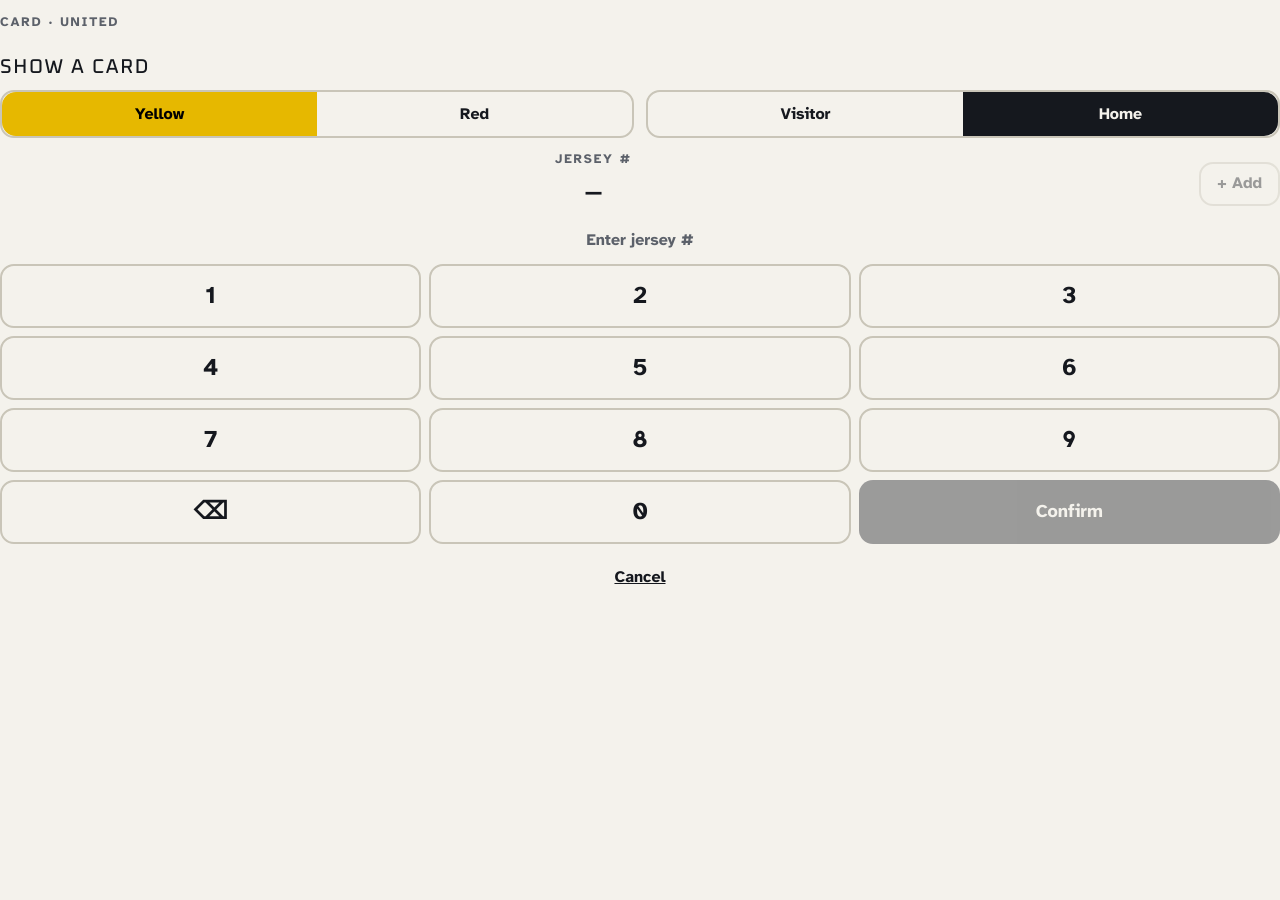
Test: CardSheet › second yellow › hints when the typed number already has a yellow
Click the button "1": click(211, 296) [0,264,421,328]
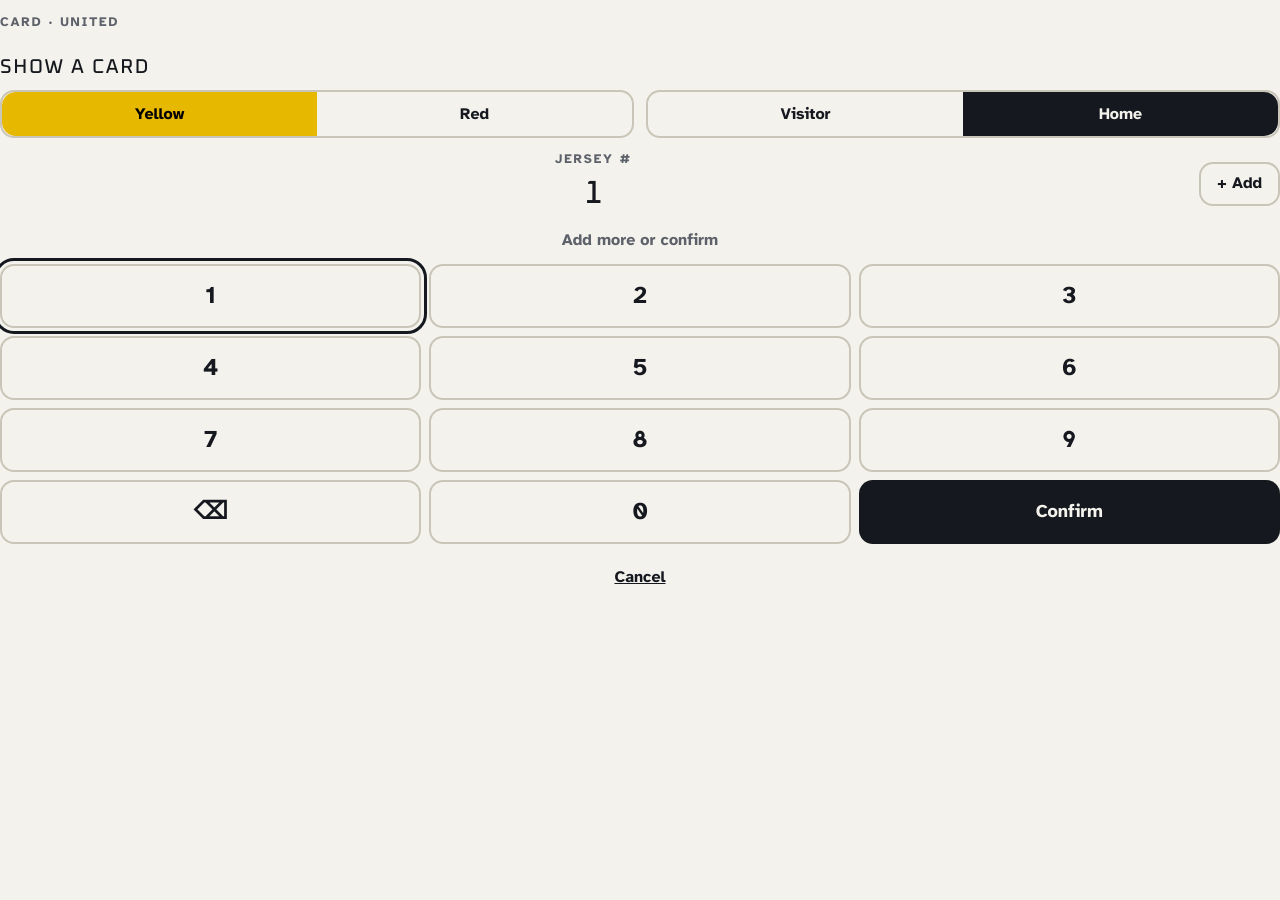
Click the button "7": click(211, 440) [0,408,421,472]
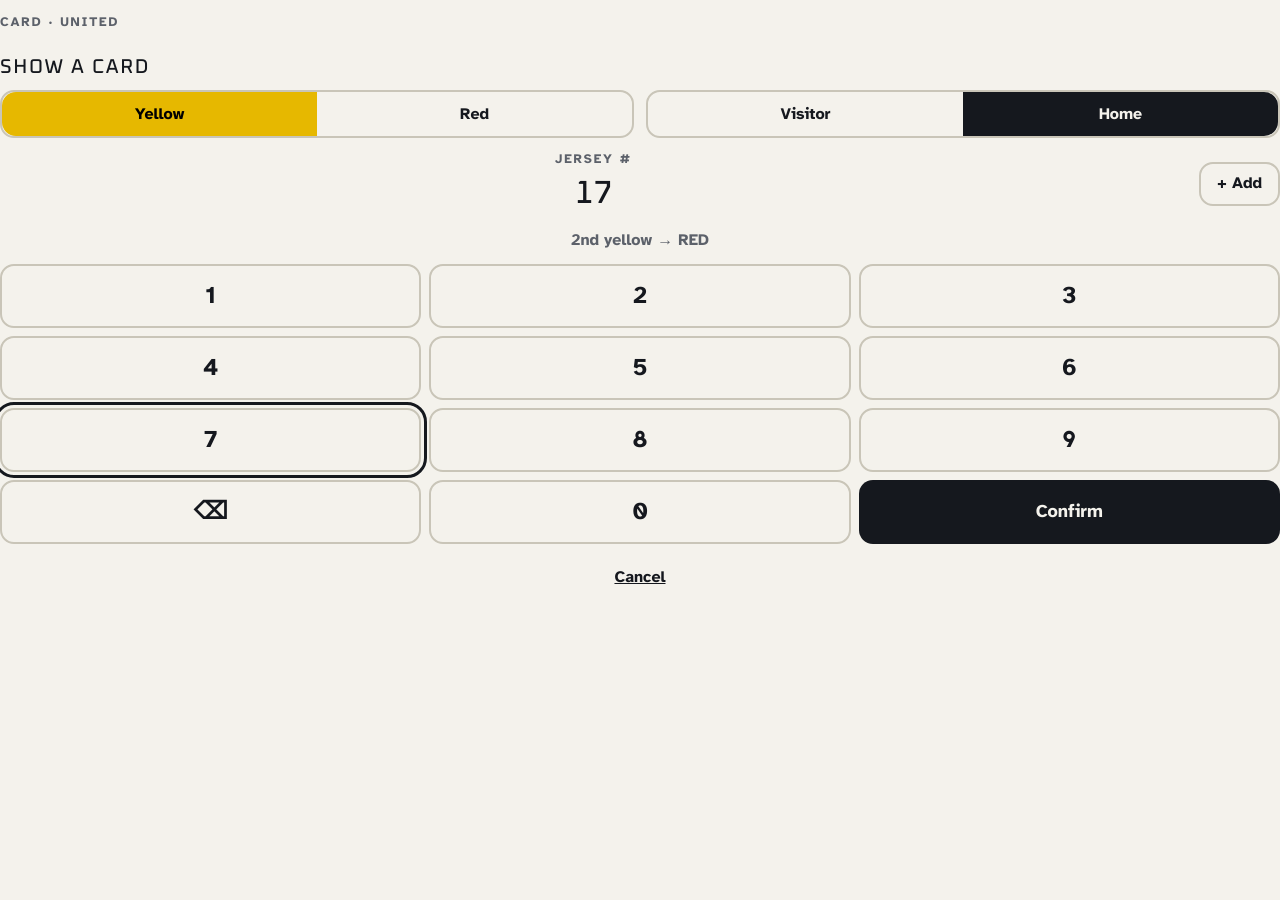
Expected: the message reads "2nd yellow → RED", [571,230,709,250]
